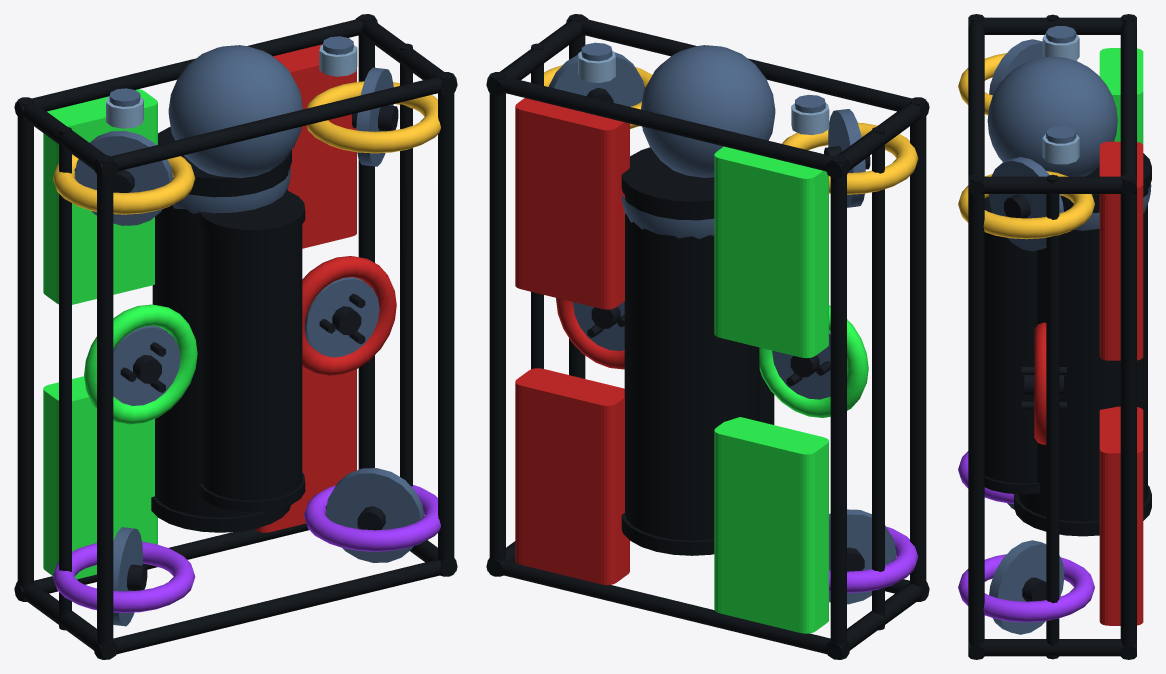
The model's file is rov.obj.
3 renders of one model, left to right at view 1: azimuth 30°, elevation 25°; view 2: azimuth 150°, elevation 25°; view 3: azimuth 270°, elevation 25°, orthographic. The views are drawn at different scales.
Visible parts, largest first — view 1: body_dark_0, prop_grey_1, green_metal_6, red_metal_5, purple_metal_4, yellow_metal_2, motor_dark_3, motor_silver_7; view 2: body_dark_0, green_metal_6, red_metal_5, prop_grey_1, yellow_metal_2, motor_dark_3, purple_metal_4, motor_silver_7; view 3: body_dark_0, prop_grey_1, red_metal_5, purple_metal_4, yellow_metal_2, motor_dark_3, green_metal_6, motor_silver_7.
Boxes of the visible parts, left/top/right/bottom form: body_dark_0: left=14, top=14, right=457, bottom=659; prop_grey_1: left=75, top=36, right=423, bottom=626; green_metal_6: left=43, top=89, right=197, bottom=579; red_metal_5: left=254, top=44, right=396, bottom=532; purple_metal_4: left=53, top=485, right=440, bottom=612; yellow_metal_2: left=53, top=81, right=440, bottom=214; motor_dark_3: left=74, top=105, right=398, bottom=590; motor_silver_7: left=106, top=44, right=357, bottom=128; body_dark_0: left=486, top=14, right=929, bottom=659; green_metal_6: left=714, top=146, right=868, bottom=633; red_metal_5: left=515, top=98, right=629, bottom=585; prop_grey_1: left=548, top=42, right=896, bottom=604; yellow_metal_2: left=544, top=65, right=918, bottom=194; motor_dark_3: left=587, top=87, right=896, bottom=571; purple_metal_4: left=829, top=526, right=918, bottom=592; motor_silver_7: left=578, top=51, right=829, bottom=135; body_dark_0: left=968, top=14, right=1151, bottom=659; prop_grey_1: left=987, top=26, right=1151, bottom=634; red_metal_5: left=1034, top=141, right=1143, bottom=625; purple_metal_4: left=958, top=451, right=1094, bottom=622; yellow_metal_2: left=958, top=53, right=1094, bottom=239; motor_dark_3: left=1004, top=194, right=1066, bottom=601; green_metal_6: left=1099, top=48, right=1143, bottom=144; motor_silver_7: left=1042, top=34, right=1079, bottom=164.
Size of the model in its own units: 0.358 by 0.4886 by 0.167.
